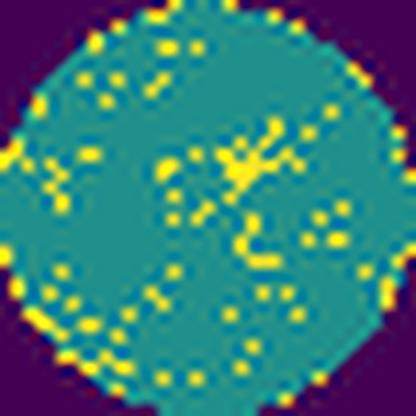Edge-Loc: (215, 113, 309, 206)
